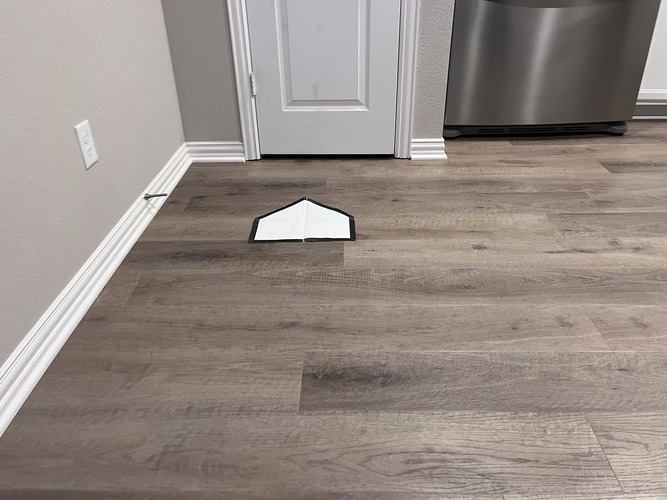homeplate: (247, 198, 356, 241)
